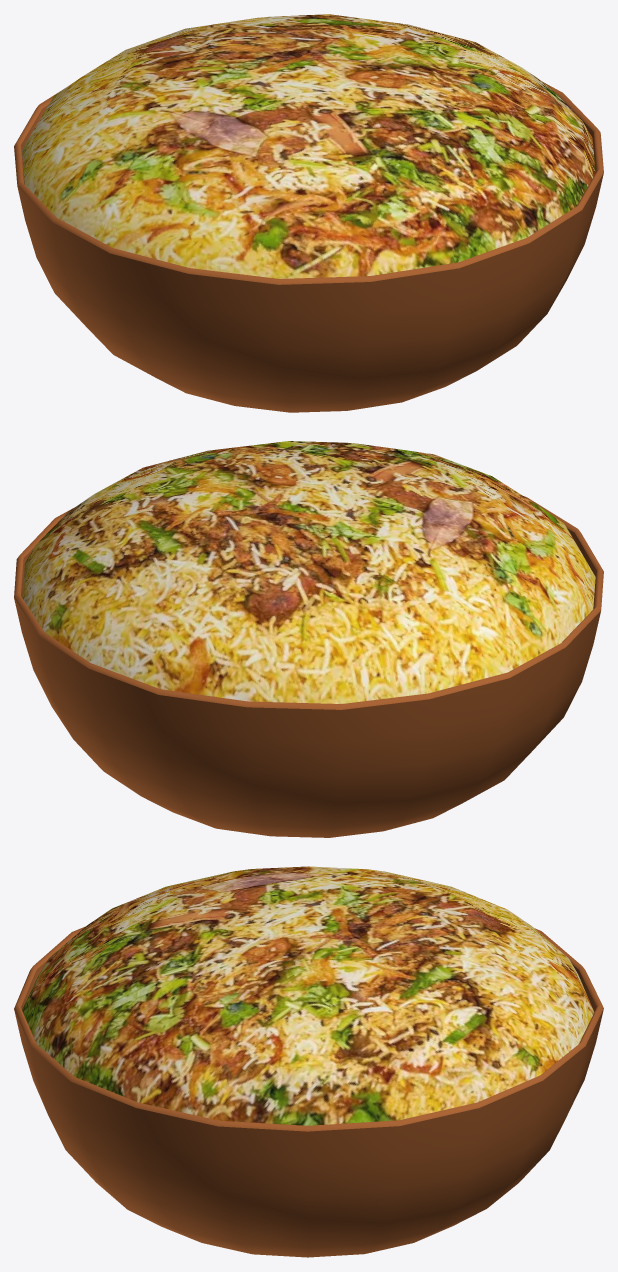
The model's file is biryani4-transformed.glb.
3 renders of one model, top to bottom at view 1: azimuth 30°, elevation 25°; view 2: azimuth 150°, elevation 25°; view 3: azimuth 270°, elevation 25°, orthographic.
Visible parts, largest first — view 1: bowl1; view 2: bowl1; view 3: bowl1.
Part boxes in pixels (bbox=[...]): bowl1: bbox=[14, 14, 603, 412]; bowl1: bbox=[14, 441, 603, 837]; bowl1: bbox=[14, 866, 603, 1257].
Bounding box in the file's own units: 0.0571 × 0.0315 × 0.0577.
Materials: 1 (1 with a texture image).
